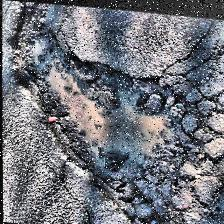pothole: (12, 8, 202, 200)
